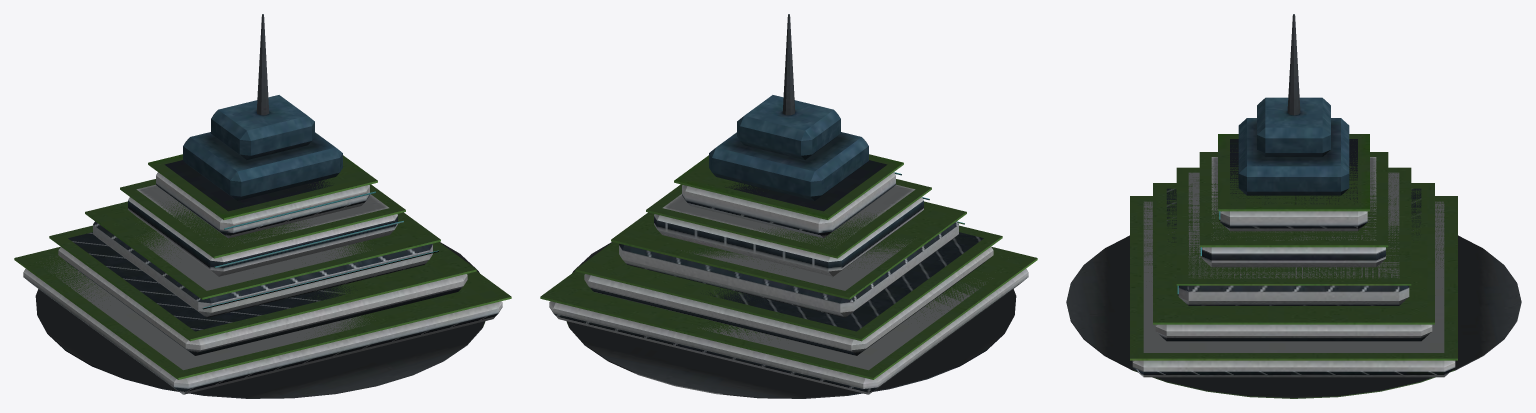
File: arcology_prime.glb
The picture shows the model from 3 angles, left to right: view 1: azimuth 30°, elevation 25°; view 2: azimuth 150°, elevation 25°; view 3: azimuth 270°, elevation 25°; orthographic projection.
Visible parts, largest first — view 1: LOD0, LOD0.001, LOD0.002; view 2: LOD0, LOD0.001, LOD0.002; view 3: LOD0, LOD0.001, LOD0.002.
Part boxes in pixels (left/top/right/bottom): LOD0: left=14, top=225, right=511, bottom=398; LOD0.001: left=85, top=154, right=440, bottom=317; LOD0.002: left=183, top=14, right=342, bottom=200; LOD0: left=540, top=225, right=1037, bottom=398; LOD0.001: left=611, top=154, right=966, bottom=317; LOD0.002: left=709, top=14, right=868, bottom=200; LOD0: left=1066, top=183, right=1521, bottom=398; LOD0.001: left=1176, top=134, right=1411, bottom=305; LOD0.002: left=1238, top=14, right=1349, bottom=195.
Size of what is drawn, in the model's own units: 8.4 by 5.87 by 8.4.
Materials: 2 (2 with a texture image).
